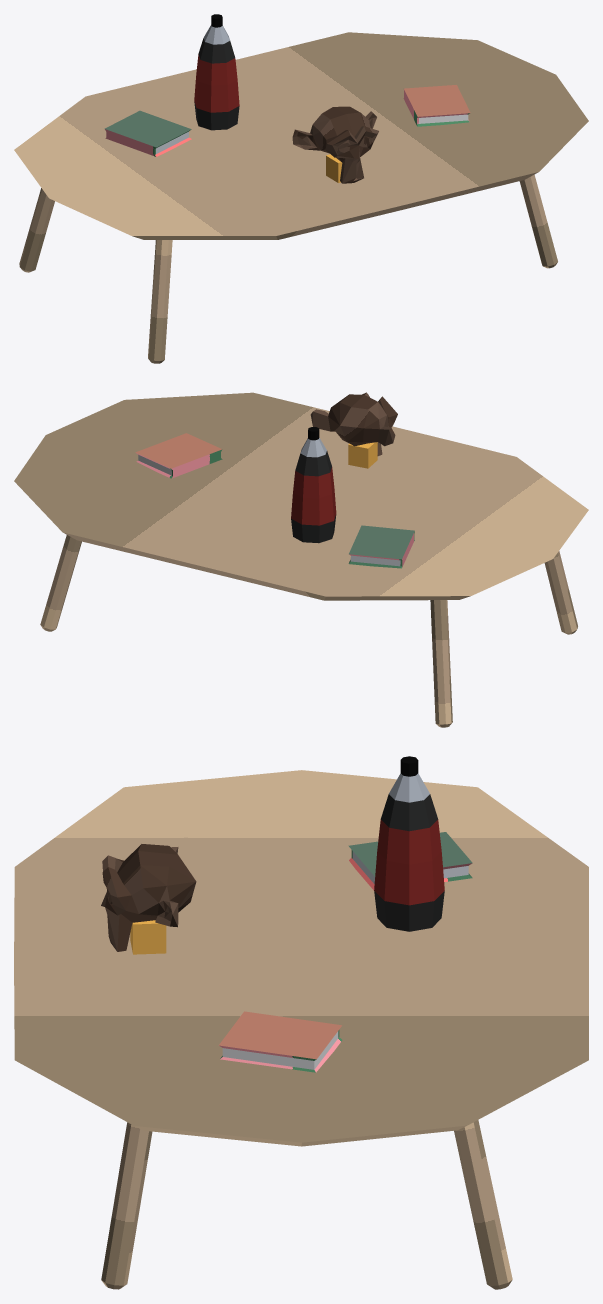
Rendered from Accesories_CoffeeTable.glb.
3 views of the same model, one above another, from view 1: azimuth 30°, elevation 25°; view 2: azimuth 150°, elevation 25°; view 3: azimuth 270°, elevation 25° (orthographic). The views are drawn at different scales.
Visible parts, largest first — view 1: Accesories_CoffeeTable; view 2: Accesories_CoffeeTable; view 3: Accesories_CoffeeTable.
Part boxes in pixels (x1,y1,x2,y2): Accesories_CoffeeTable: (14,14,588,363); Accesories_CoffeeTable: (14,392,588,727); Accesories_CoffeeTable: (14,756,588,1289).
Size of the model in its own units: 1.31 by 0.5857 by 0.8542.
Materials: 1 (1 with a texture image).
